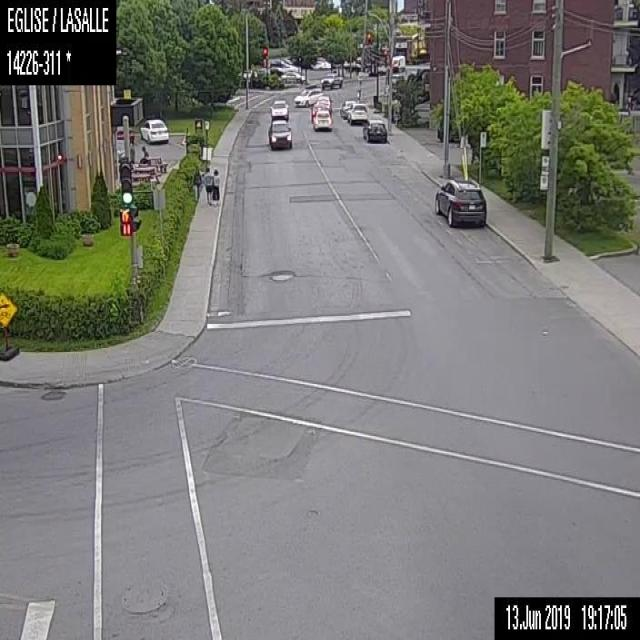pedestrian: (210, 167, 221, 207), (204, 167, 212, 204), (194, 170, 201, 198)
vehicle: (433, 178, 486, 225), (267, 99, 291, 148), (138, 117, 169, 143), (360, 119, 386, 141), (293, 86, 322, 105), (345, 102, 368, 125), (312, 108, 332, 130), (320, 70, 343, 89), (279, 68, 304, 84), (314, 93, 332, 109), (340, 98, 353, 117), (392, 54, 405, 73)
